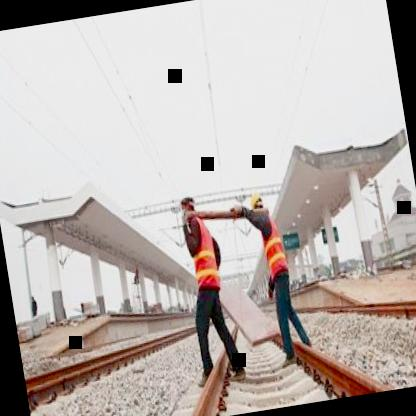helmet: (176, 180, 198, 220), (247, 186, 268, 221)
